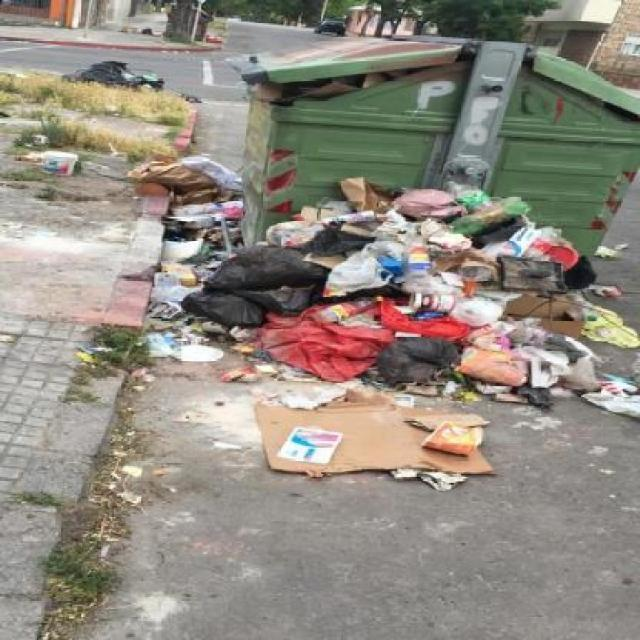garbage: (203, 228, 528, 484), (357, 187, 624, 426), (135, 149, 248, 320), (266, 183, 458, 244), (31, 145, 104, 190)
